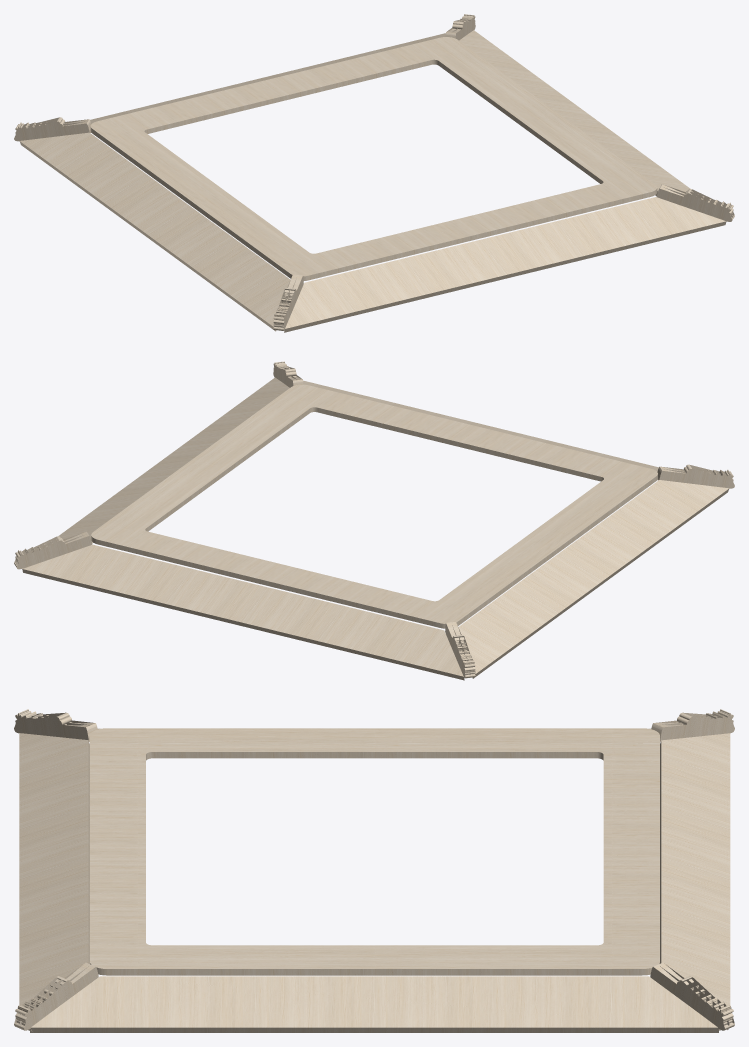
3 renders of one model, top to bottom at view 1: azimuth 30°, elevation 25°; view 2: azimuth 150°, elevation 25°; view 3: azimuth 270°, elevation 25°, orthographic. The views are drawn at different scales.
Visible parts, largest first — view 1: Mesh10 Block_1680_3_1 Model, Mesh9 ___284_3 Model, Mesh7 ___284_1 Model, Mesh8 ___284_2 Model, Mesh11 ___284_4 Model, Mesh2 ___285_2 ___286_1 Model, Mesh3 ___285_3 ___286_2 Model, Mesh6 ___285_6 ___286_3 Model; view 2: Mesh10 Block_1680_3_1 Model, Mesh11 ___284_4 Model, Mesh7 ___284_1 Model, Mesh8 ___284_2 Model, Mesh9 ___284_3 Model, Mesh13 ___285_8 ___286_4 Model, Mesh5 ___285_5 ___286_3 Model, Mesh4 ___285_4 ___286_2 Model; view 3: Mesh10 Block_1680_3_1 Model, Mesh8 ___284_2 Model, Mesh11 ___284_4 Model, Mesh9 ___284_3 Model, Mesh1 ___285_1 ___286_1 Model, Mesh12 ___285_7 ___286_4 Model, Mesh6 ___285_6 ___286_3 Model, Mesh4 ___285_4 ___286_2 Model, Mesh13 ___285_8 ___286_4 Model, Mesh2 ___285_2 ___286_1 Model.
Boxes of the visible parts, left/top/right/bottom form: Mesh10 Block_1680_3_1 Model: left=90, top=37, right=657, bottom=280; Mesh9 ___284_3 Model: left=284, top=197, right=726, bottom=332; Mesh7 ___284_1 Model: left=19, top=132, right=290, bottom=331; Mesh8 ___284_2 Model: left=459, top=30, right=690, bottom=196; Mesh11 ___284_4 Model: left=90, top=33, right=445, bottom=132; Mesh2 ___285_2 ___286_1 Model: left=656, top=186, right=733, bottom=221; Mesh3 ___285_3 ___286_2 Model: left=14, top=119, right=90, bottom=141; Mesh6 ___285_6 ___286_3 Model: left=278, top=275, right=303, bottom=330; Mesh10 Block_1680_3_1 Model: left=91, top=384, right=657, bottom=628; Mesh11 ___284_4 Model: left=22, top=544, right=464, bottom=680; Mesh7 ___284_1 Model: left=458, top=480, right=729, bottom=678; Mesh8 ___284_2 Model: left=58, top=377, right=289, bottom=543; Mesh9 ___284_3 Model: left=303, top=380, right=658, bottom=480; Mesh13 ___285_8 ___286_4 Model: left=15, top=534, right=92, bottom=569; Mesh5 ___285_5 ___286_3 Model: left=658, top=466, right=734, bottom=488; Mesh4 ___285_4 ___286_2 Model: left=445, top=622, right=470, bottom=678; Mesh10 Block_1680_3_1 Model: left=90, top=728, right=659, bottom=975; Mesh8 ___284_2 Model: left=30, top=976, right=718, bottom=1032; Mesh11 ___284_4 Model: left=660, top=733, right=730, bottom=1029; Mesh9 ___284_3 Model: left=19, top=733, right=89, bottom=1029; Mesh1 ___285_1 ___286_1 Model: left=19, top=965, right=98, bottom=1031; Mesh12 ___285_7 ___286_4 Model: left=650, top=965, right=729, bottom=1031; Mesh6 ___285_6 ___286_3 Model: left=14, top=711, right=92, bottom=741; Mesh4 ___285_4 ___286_2 Model: left=656, top=711, right=734, bottom=742; Mesh13 ___285_8 ___286_4 Model: left=658, top=962, right=734, bottom=1028; Mesh2 ___285_2 ___286_1 Model: left=14, top=962, right=90, bottom=1028.
Bounding box in the file's own units: 304 × 18.63 × 304.
Materials: 1 (1 with a texture image).
